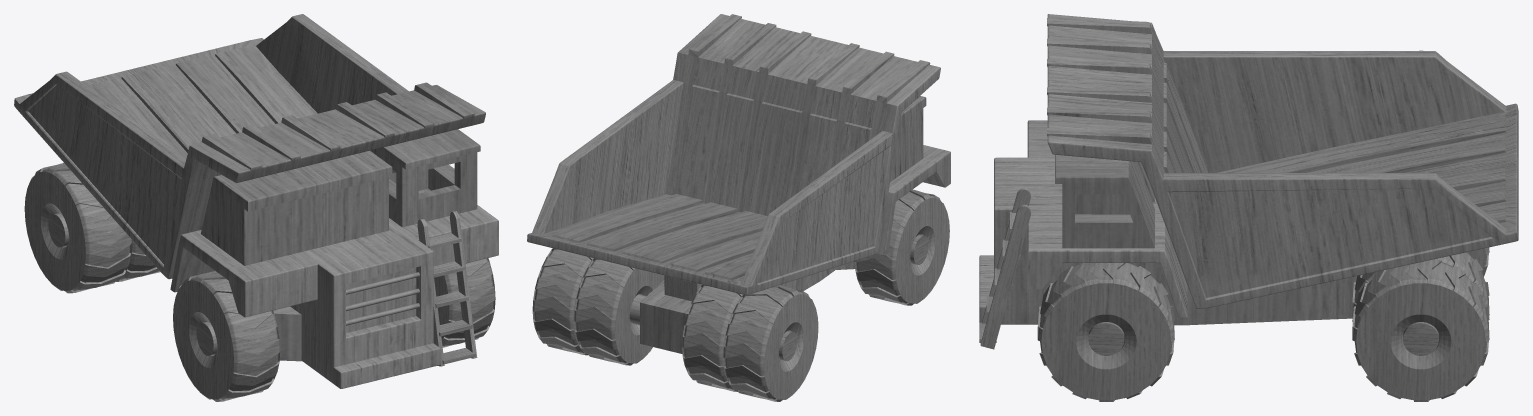
File: TruckFBX.fbx
3 views of the same model, side by side, from view 1: azimuth 30°, elevation 25°; view 2: azimuth 150°, elevation 25°; view 3: azimuth 270°, elevation 25° (orthographic). The views are drawn at different scales.
Visible parts, largest first — view 1: pCube3, pCube1, pCylinder13, pCylinder14, pCube10, pCylinder1, pCylinder18, pCylinder15, pCylinder6, pCylinder2, pCylinder19, pCylinder20; view 2: pCube3, pCylinder14, pCube1, pCylinder13, pCylinder17, pCylinder16, pCylinder18, pCylinder15, pCube11, pCylinder6; view 3: pCube3, pCube1, pCylinder1, pCylinder16, pCube10, pCylinder17, pCylinder6, pCylinder15.
Part boxes in pixels (left/top/right/bottom): pCube3: left=14, top=14, right=485, bottom=279; pCube1: left=170, top=129, right=498, bottom=388; pCylinder13: left=173, top=271, right=280, bottom=401; pCylinder14: left=24, top=163, right=131, bottom=293; pCube10: left=417, top=211, right=477, bottom=366; pCylinder1: left=434, top=258, right=495, bottom=347; pCylinder18: left=116, top=240, right=159, bottom=281; pCylinder15: left=48, top=213, right=69, bottom=247; pCylinder6: left=196, top=321, right=217, bottom=355; pCylinder2: left=346, top=272, right=419, bottom=294; pCylinder19: left=346, top=288, right=419, bottom=311; pCylinder20: left=346, top=303, right=419, bottom=325; pCube3: left=527, top=14, right=940, bottom=295; pCylinder14: left=723, top=285, right=818, bottom=401; pCube1: left=640, top=96, right=950, bottom=353; pCylinder13: left=855, top=189, right=949, bottom=305; pCylinder17: left=574, top=258, right=664, bottom=365; pCylinder16: left=532, top=248, right=593, bottom=355; pCylinder18: left=682, top=284, right=743, bottom=391; pCylinder15: left=629, top=294, right=797, bottom=361; pCube11: left=664, top=275, right=701, bottom=301; pCylinder6: left=910, top=234, right=928, bottom=264; pCube3: left=1047, top=14, right=1518, bottom=308; pCube1: left=979, top=120, right=1356, bottom=325; pCylinder1: left=1037, top=263, right=1174, bottom=401; pCylinder16: left=1352, top=259, right=1489, bottom=401; pCube10: left=979, top=187, right=1030, bottom=349; pCylinder17: left=1352, top=252, right=1489, bottom=316; pCylinder6: left=1088, top=322, right=1124, bottom=355; pCylinder15: left=1403, top=322, right=1438, bottom=355.
Size of the model in its own units: 7.04 by 6.32 by 11.84.
1 material, 1 textured.
